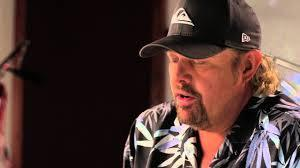Drunk: (162, 48, 221, 124)
